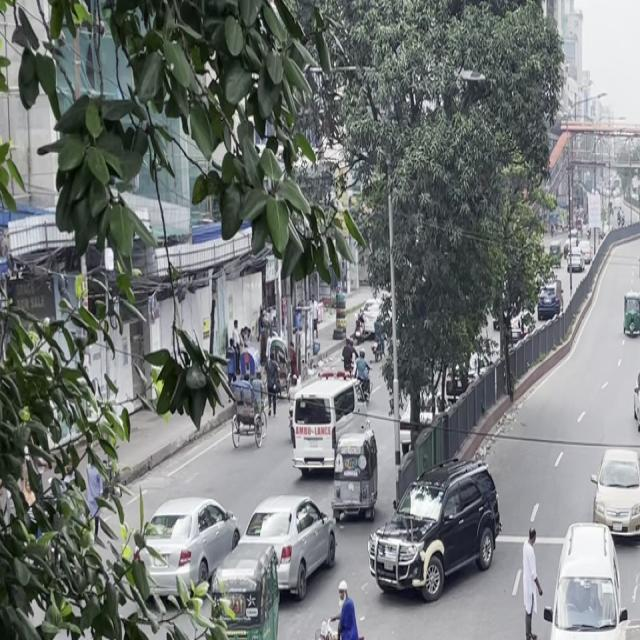bicycle: (299, 588, 390, 640)
bus: (584, 606, 640, 640)
car: (367, 456, 507, 606), (130, 490, 247, 614), (239, 486, 340, 606), (536, 517, 632, 640), (283, 375, 359, 481), (587, 442, 640, 552), (630, 360, 640, 441)
rickshaw: (202, 548, 284, 640)
